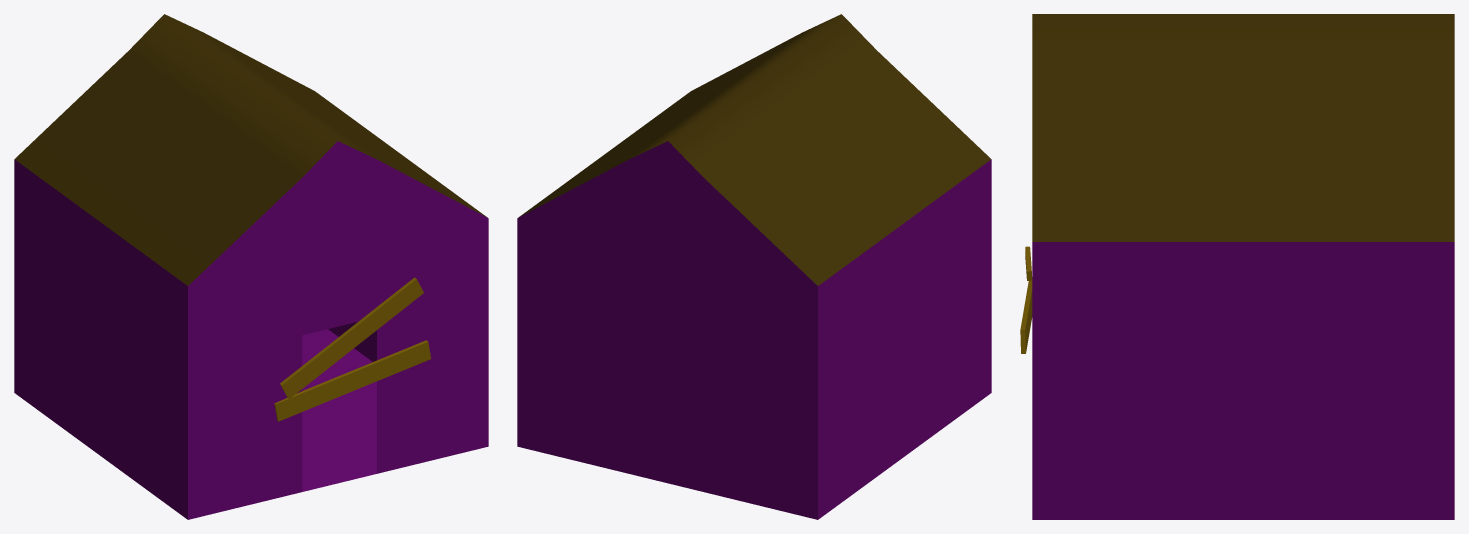
The model's file is Witch's House.fbx.
3 renders of one model, left to right at view 1: azimuth 30°, elevation 25°; view 2: azimuth 150°, elevation 25°; view 3: azimuth 270°, elevation 25°, orthographic. The views are drawn at different scales.
Parts seen in each view (by area): view 1: pCube1, pCube3, pCube2; view 2: pCube1; view 3: pCube1, pCube3.
Part boxes in pixels (x1,y1,x2,y2): pCube1: (14,14,488,519); pCube3: (274,340,431,421); pCube2: (280,277,423,398); pCube1: (517,14,991,519); pCube1: (1032,14,1454,519); pCube3: (1020,277,1032,353).
Size of the model in its own units: 6.85 by 7.46 by 7.05.
